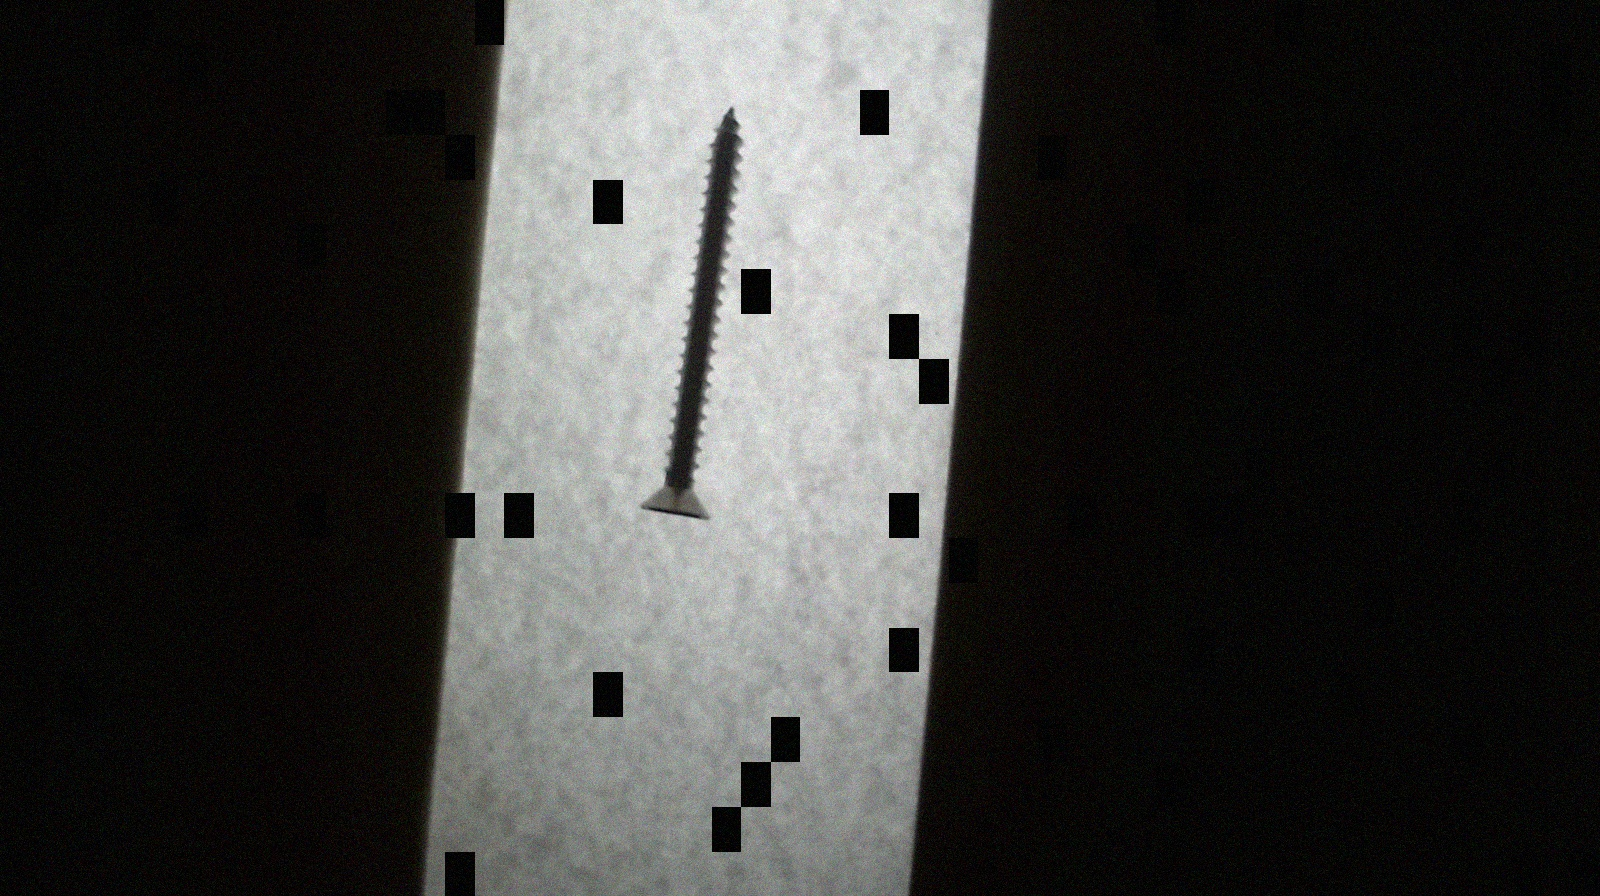S002: (609, 91, 777, 528)
